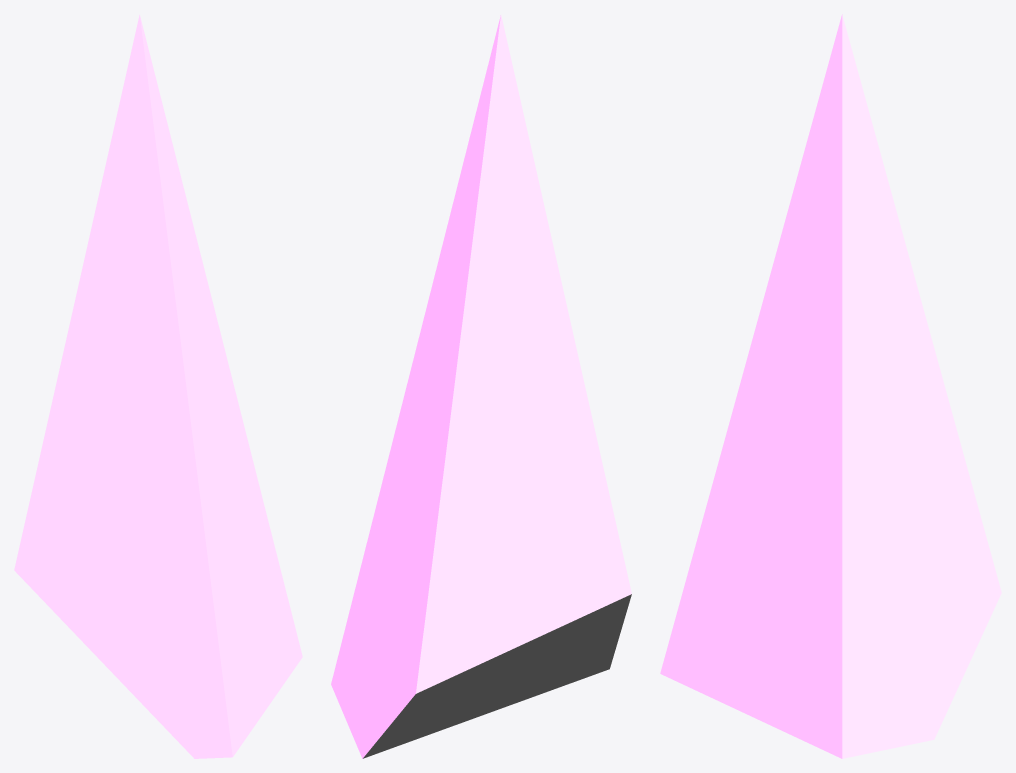
File: Cone_after_001.fbx
3 views of the same model, side by side, from view 1: azimuth 30°, elevation 25°; view 2: azimuth 150°, elevation 25°; view 3: azimuth 270°, elevation 25° (orthographic). The views are drawn at different scales.
Visible parts, largest first — view 1: Cone_after_001; view 2: Cone_after_001; view 3: Cone_after_001.
Boxes of the visible parts, x1=… form: Cone_after_001: x1=14, y1=14, x2=302, y2=758; Cone_after_001: x1=331, y1=14, x2=631, y2=758; Cone_after_001: x1=660, y1=14, x2=1001, y2=758.
Bounding box in the file's own units: 8.85 × 20.53 × 9.28.
